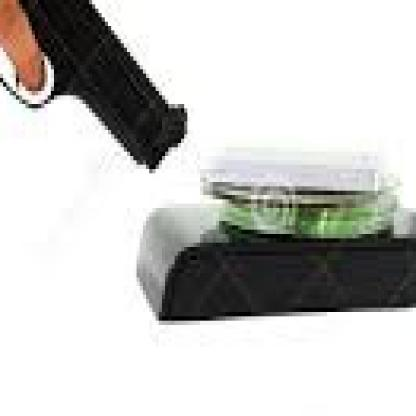gun: (0, 0, 197, 195)
